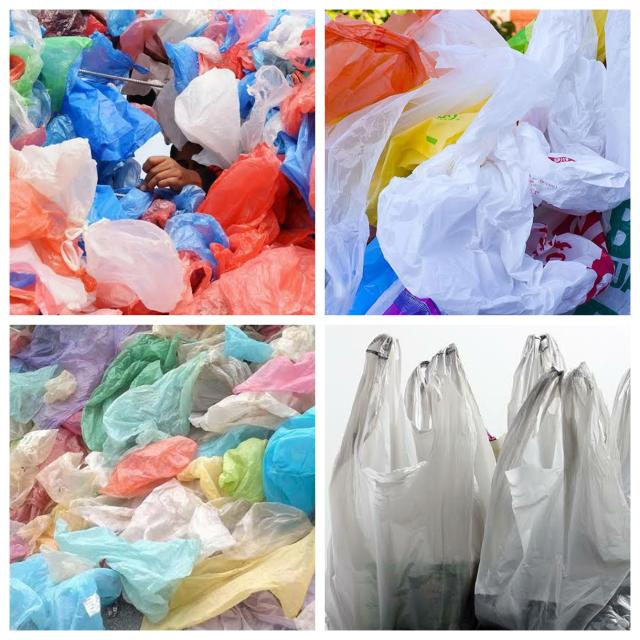Single-layer Plastic: (325, 11, 551, 314), (378, 51, 629, 314), (326, 334, 495, 630), (475, 364, 630, 630), (141, 529, 315, 630), (102, 350, 250, 464), (55, 520, 200, 622), (16, 325, 138, 429), (45, 75, 160, 181), (199, 144, 290, 274), (526, 10, 606, 156), (325, 16, 428, 124), (10, 170, 96, 291), (185, 245, 315, 315), (84, 220, 182, 312), (10, 554, 122, 630), (10, 138, 98, 227), (174, 69, 241, 169), (155, 185, 229, 273), (10, 242, 95, 315), (100, 436, 198, 498), (262, 406, 315, 516), (508, 334, 565, 426), (121, 479, 202, 541), (224, 502, 312, 559), (190, 391, 299, 433), (240, 65, 291, 152), (604, 10, 630, 170), (36, 451, 111, 506), (40, 36, 92, 111), (280, 25, 315, 135), (10, 429, 58, 508), (234, 351, 315, 394), (219, 438, 268, 502), (10, 365, 60, 423), (81, 31, 142, 77), (188, 504, 235, 558), (222, 325, 274, 363), (178, 456, 222, 499), (164, 41, 199, 94)
